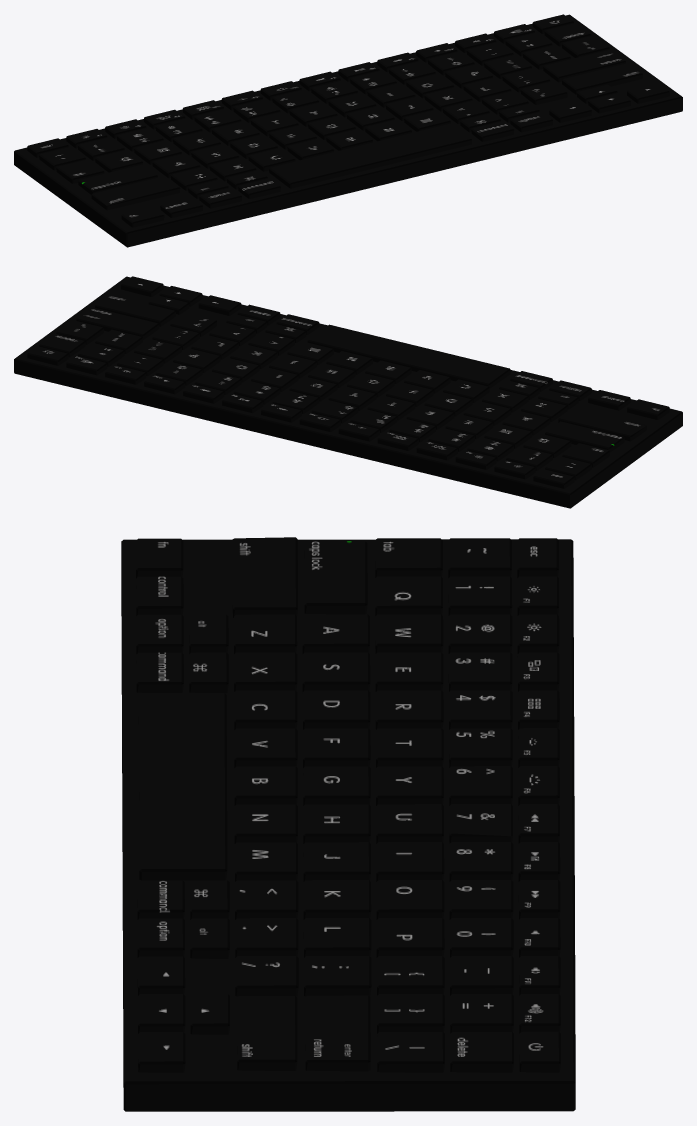
The model's file is teclado.obj.
3 renders of one model, top to bottom at view 1: azimuth 30°, elevation 25°; view 2: azimuth 150°, elevation 25°; view 3: azimuth 270°, elevation 25°, orthographic. The views are drawn at different scales.
Visible parts, largest first — view 1: tasti035; view 2: tasti035; view 3: tasti035.
Boxes of the visible parts, x1,y1,x2,y2 form: tasti035: [14, 14, 682, 247]; tasti035: [14, 276, 682, 508]; tasti035: [121, 537, 575, 1111].
Size of the model in its own units: 5.26 by 0.1841 by 1.86.
Materials: 1 (1 with a texture image).
